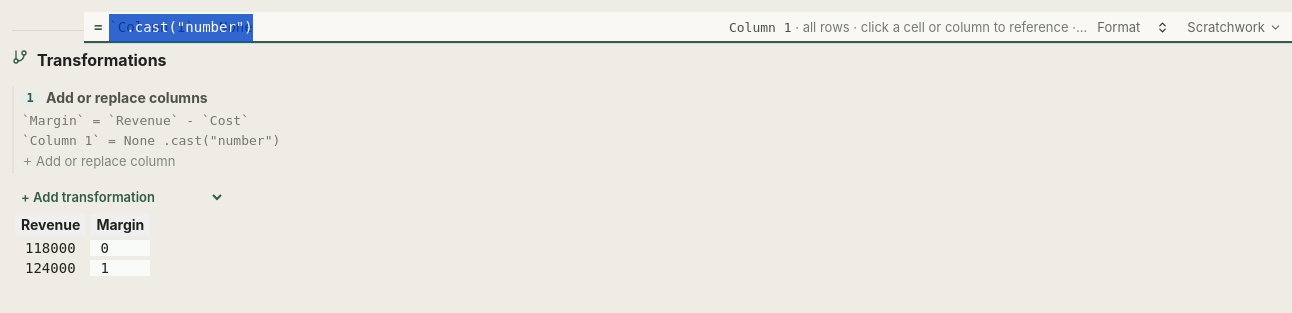
Test: pointing at the grid from a wrangle formula › writes the row above the anchor as one period back, name intact
Step 1. Click the text with class "cell-display" showing "118000" → point(50, 248), box [25,240,76,256]
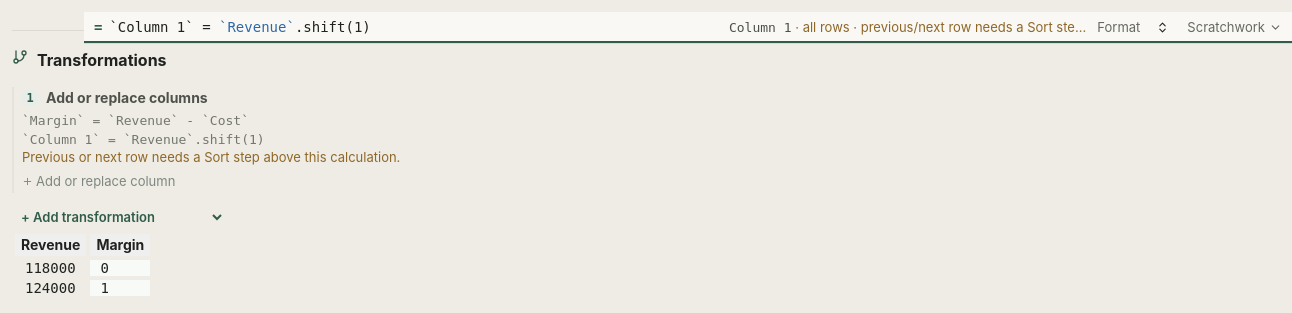
Expected: the text box named "Edit Column 1" holds "`Column 1` = `Revenue`.shift(1)", [109,14,722,41]
